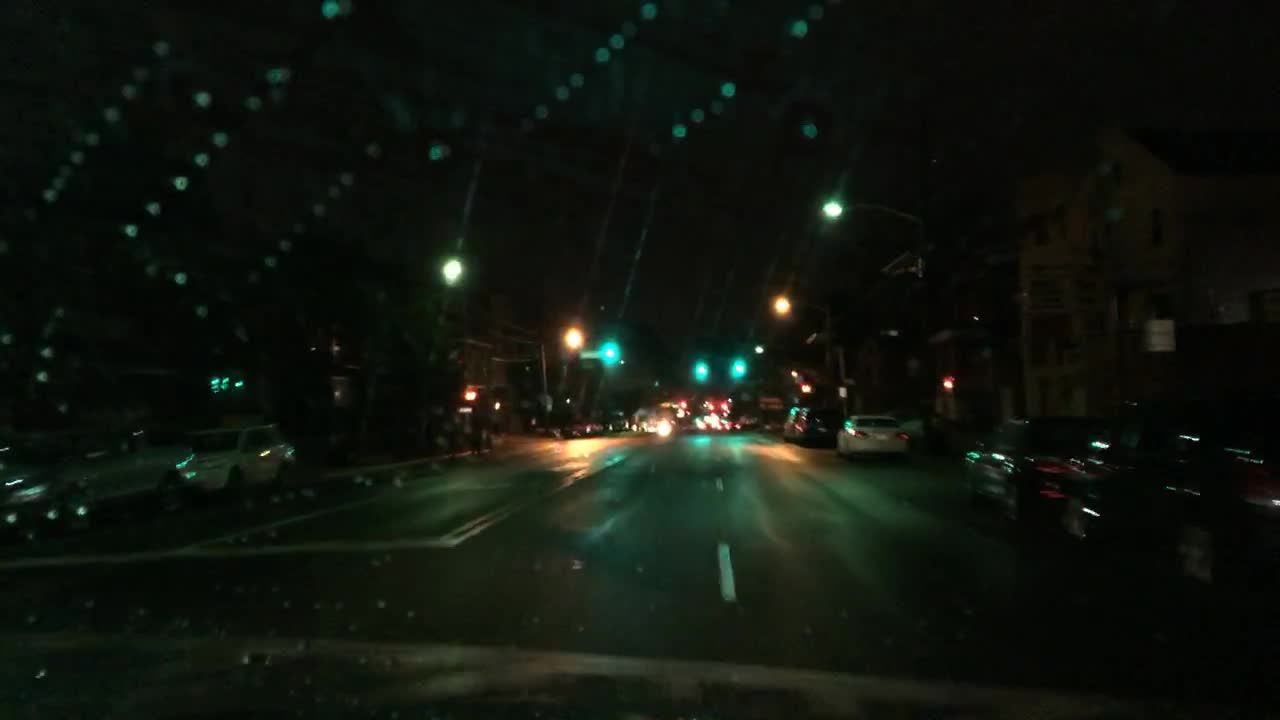car: (1054, 395, 1279, 589), (0, 423, 204, 533), (957, 410, 1117, 535), (170, 415, 300, 503), (832, 413, 911, 455), (789, 403, 845, 445), (560, 415, 600, 442), (639, 410, 675, 437), (779, 403, 801, 442), (727, 410, 759, 434), (692, 412, 725, 435), (606, 415, 629, 432)
person: (465, 405, 486, 457)
traffic light: (604, 334, 617, 363), (732, 353, 746, 378), (693, 354, 708, 376), (462, 385, 479, 401), (796, 380, 813, 396), (940, 374, 953, 391)
traffic sign: (1142, 315, 1174, 353), (577, 347, 600, 361), (454, 403, 471, 415), (835, 385, 847, 398)
